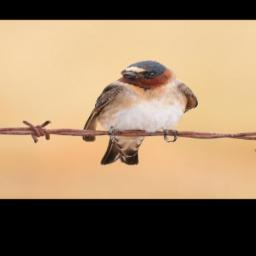Swallow: (80, 57, 202, 169)
